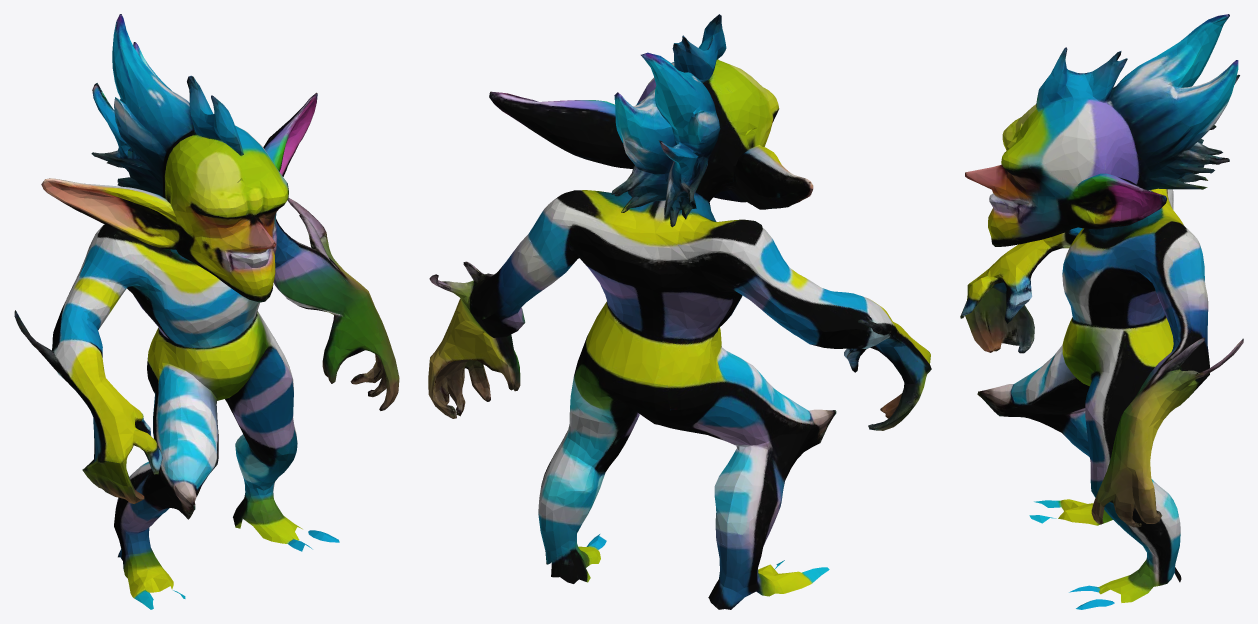
Rendered from goblin_brute.glb.
3 views of the same model, side by side, from view 1: azimuth 30°, elevation 25°; view 2: azimuth 150°, elevation 25°; view 3: azimuth 270°, elevation 25° (orthographic). The views are drawn at different scales.
Visible parts, largest first — view 1: geometry_0; view 2: geometry_0; view 3: geometry_0.
Part boxes in pixels (x1,y1,x2,y2): geometry_0: (14,14,399,609); geometry_0: (428,14,931,609); geometry_0: (960,14,1243,609).
Bounding box in the file's own units: 1.48 × 1.9 × 0.9326.
1 material, 1 textured.
